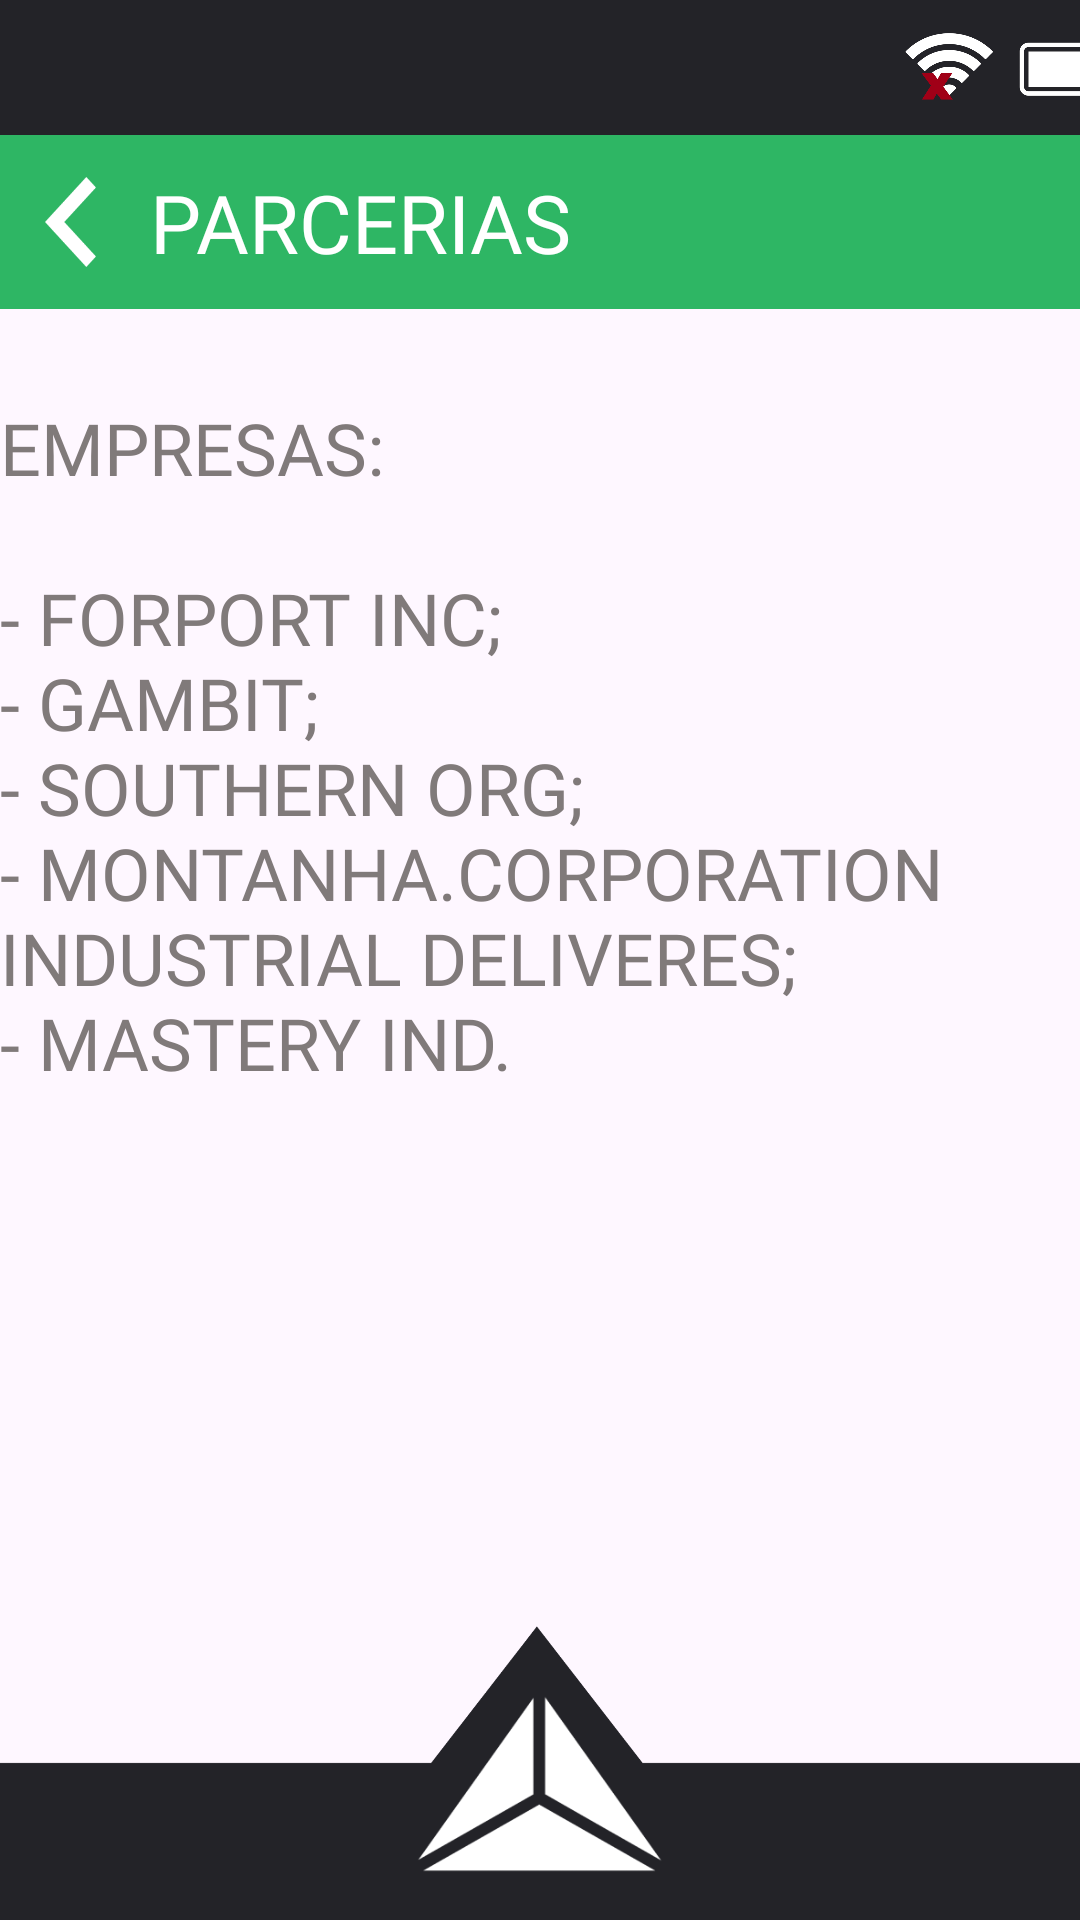

Where icons sit on this 1080 × 1920 app screen, as box(x1, y1, x2, y2):
btnvoltaremail: box(45, 177, 96, 267)
